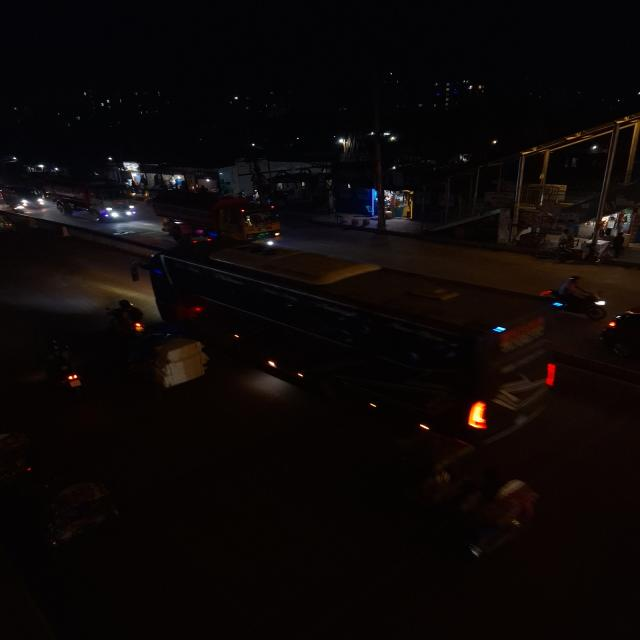motorcycle: (34, 337, 92, 398), (536, 274, 610, 321), (597, 304, 640, 366), (107, 297, 151, 337)
pedestrian: (127, 258, 148, 283)
rickshaw: (22, 476, 123, 557), (117, 332, 218, 397)
truck: (151, 190, 288, 246), (52, 182, 139, 223), (2, 186, 46, 209)
